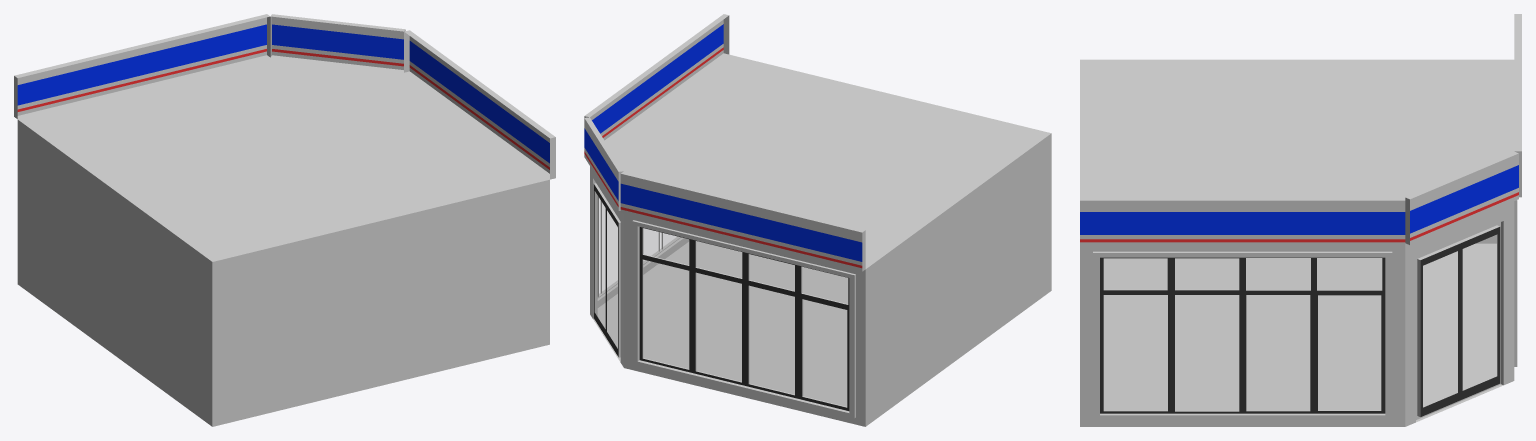
Rendered from hew14.glb.
3 views of the same model, side by side, from view 1: azimuth 30°, elevation 25°; view 2: azimuth 150°, elevation 25°; view 3: azimuth 270°, elevation 25° (orthographic). The views are drawn at different scales.
Visible parts, largest first — view 1: Cube; view 2: Cube; view 3: Cube.
Part boxes in pixels (x1=…): Cube: x1=14, y1=14, x2=555, y2=426; Cube: x1=584, y1=14, x2=1051, y2=426; Cube: x1=1080, y1=14, x2=1521, y2=426.
Size of the model in its own units: 5.05 by 2.9 by 5.06.
